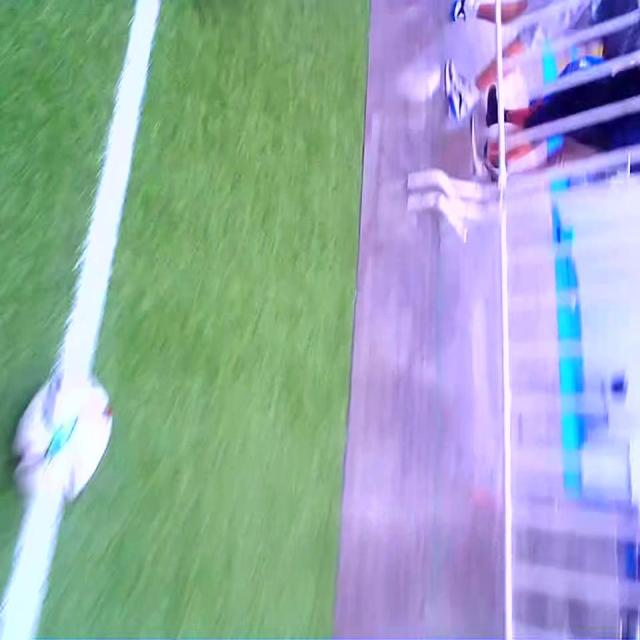ball: (12, 362, 121, 513)
